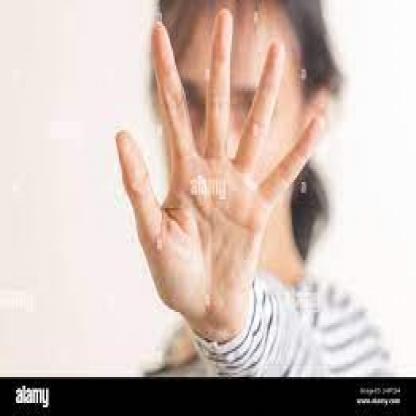stop: (114, 7, 326, 340)
